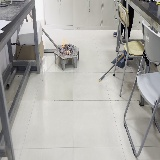fire: (62, 37, 69, 54)
